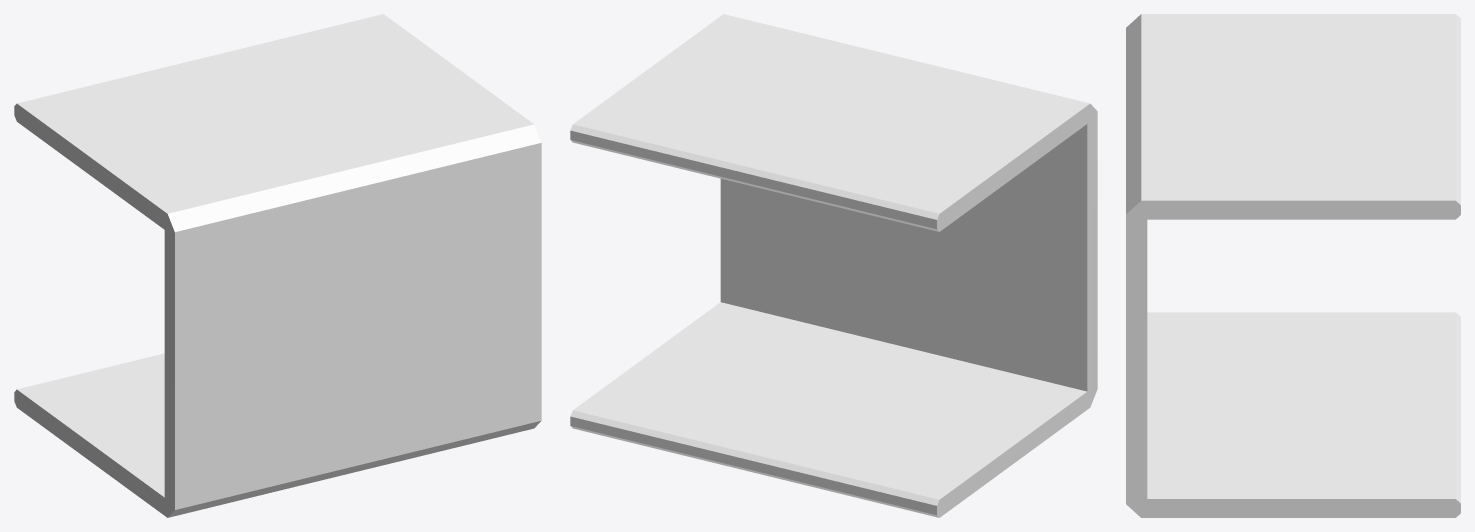
Rendered from table_h.fbx.
3 renders of one model, left to right at view 1: azimuth 30°, elevation 25°; view 2: azimuth 150°, elevation 25°; view 3: azimuth 270°, elevation 25°, orthographic. The views are drawn at different scales.
Parts seen in each view (by area): view 1: table_h; view 2: table_h; view 3: table_h.
Boxes of the visible parts, left/top/right/bottom form: table_h: left=14, top=14, right=541, bottom=517; table_h: left=570, top=14, right=1097, bottom=517; table_h: left=1126, top=14, right=1460, bottom=517.
Bounding box in the file's own units: 1.73 × 1.37 × 1.31.
